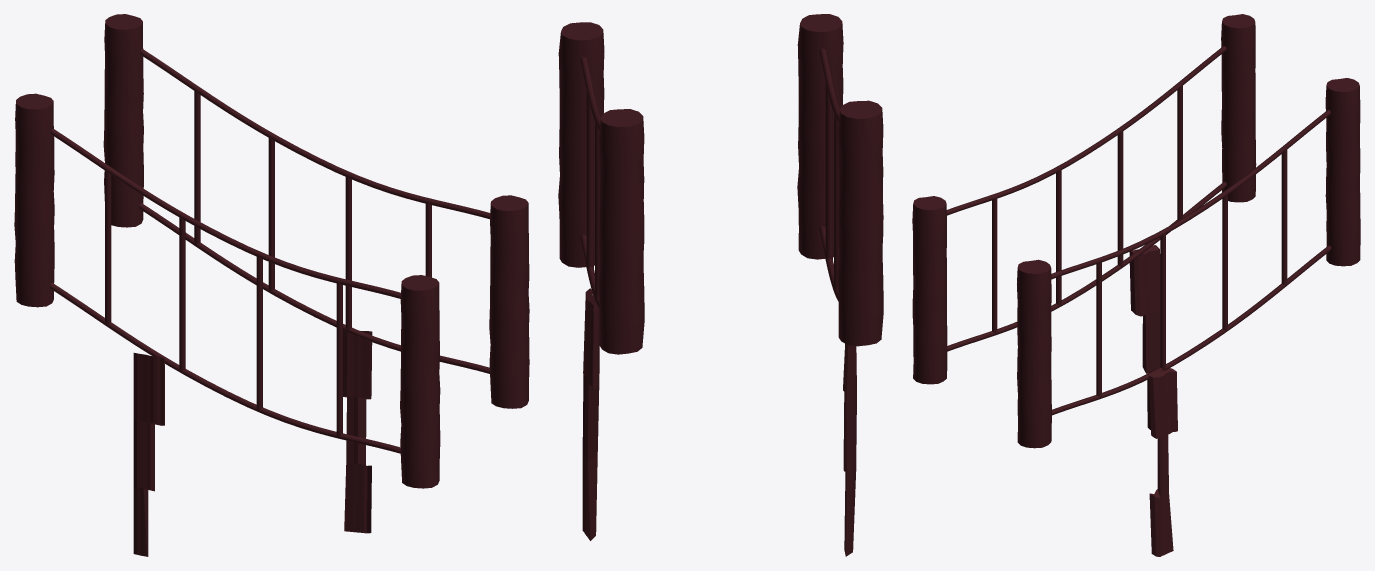
Rendered from level_one_bridge_2fbx.fbx.
3 renders of one model, left to right at view 1: azimuth 30°, elevation 25°; view 2: azimuth 150°, elevation 25°; view 3: azimuth 270°, elevation 25°, orthographic. The views are drawn at different scales.
Visible parts, largest first — view 1: Bridge02; view 2: Bridge02; view 3: Bridge02.
Part boxes in pixels (x1=…): Bridge02: x1=14, y1=14, x2=529, y2=556; Bridge02: x1=558, y1=14, x2=883, y2=556; Bridge02: x1=912, y1=14, x2=1360, y2=556.
Bounding box in the file's own units: 719 × 819 × 806.
